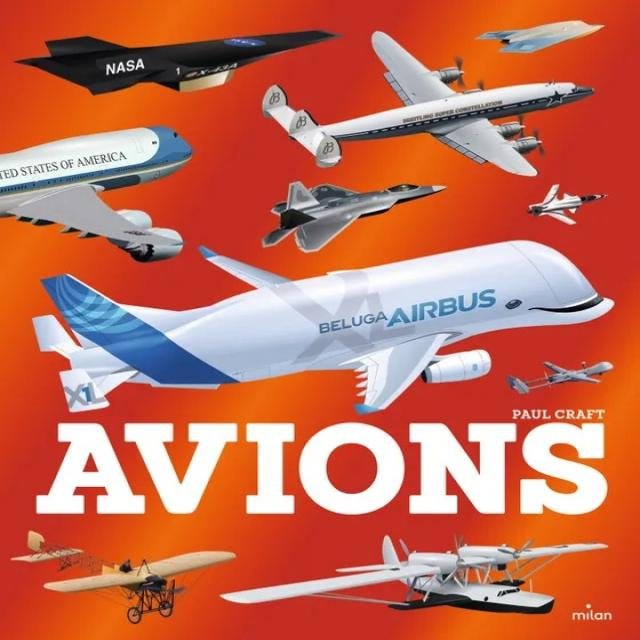aircraft: (7, 193, 640, 404), (243, 0, 640, 193), (0, 93, 230, 240)
